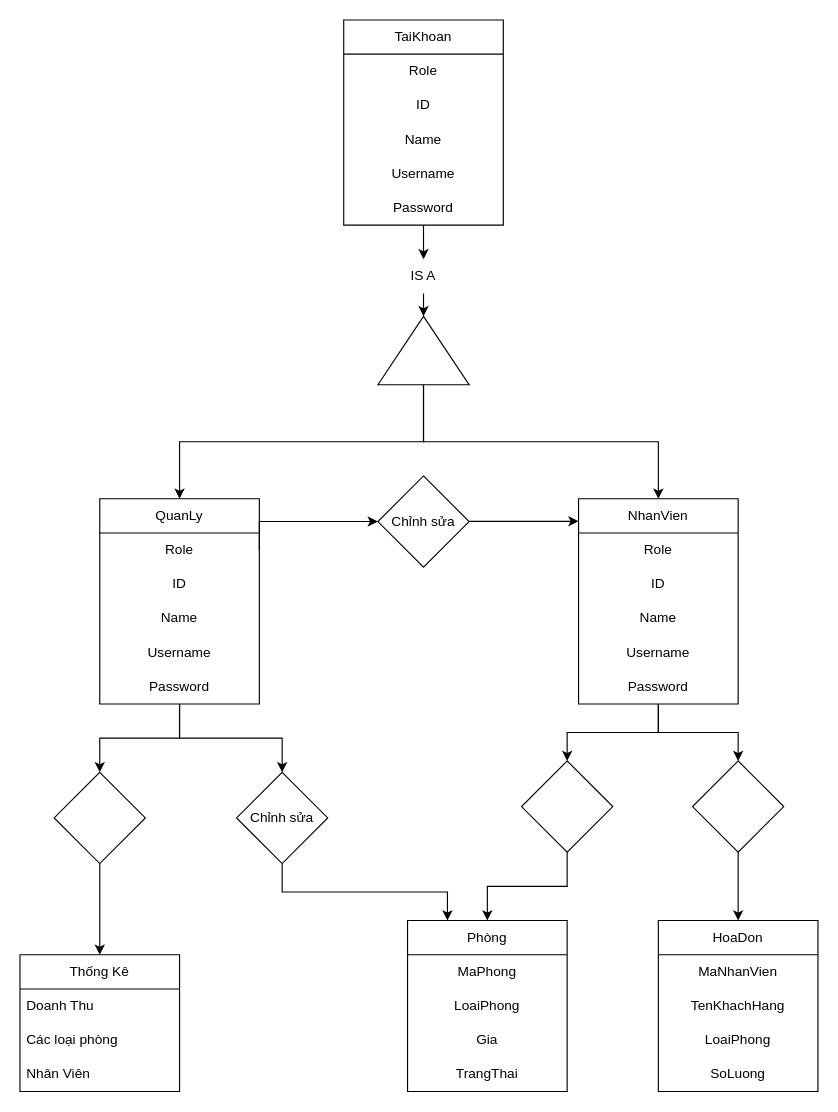
The diagram is 838 pixels wide and 1112 high, and some of its shapes have lost their labels. Here are the shapes that lost their labels. From the top down, the centre of each, then its label:
At point 99,817: "Xem".
At point 566,806: "Đặt Phòng".
At point 737,806: "Tạo".
